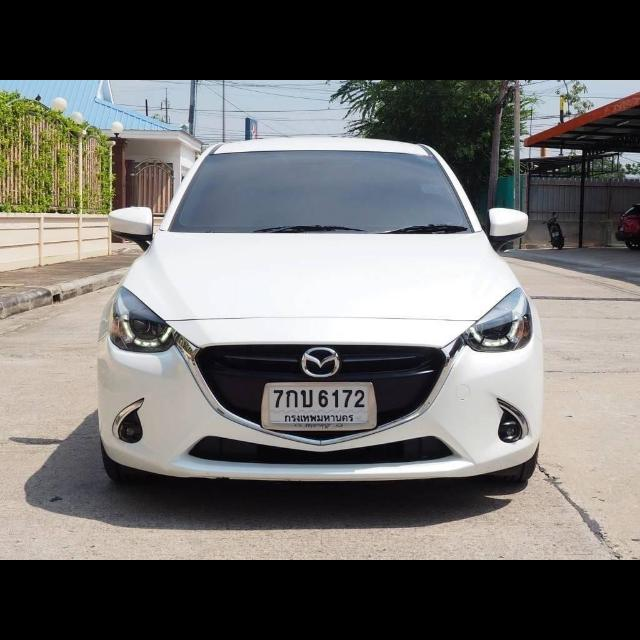cars: (89, 128, 556, 512)
